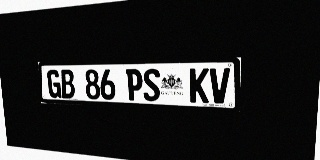6: (99, 69, 116, 100)
8: (84, 69, 100, 99)
B: (60, 69, 75, 99)
G: (47, 70, 62, 98)
K: (190, 68, 209, 103)
P: (126, 69, 143, 101)
S: (143, 69, 160, 101)
V: (209, 68, 230, 104)
